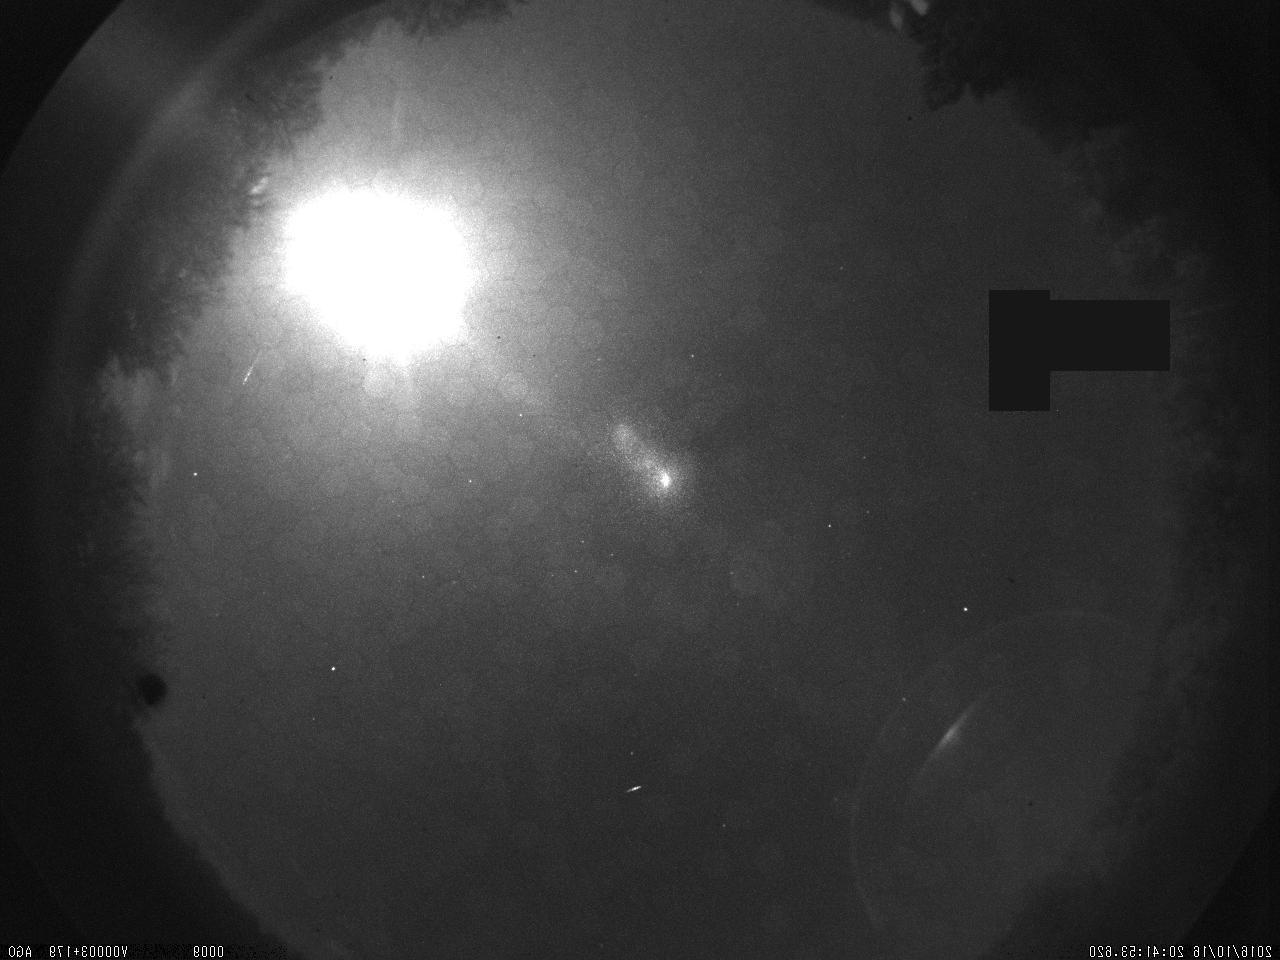meteor: (605, 767, 655, 807)
